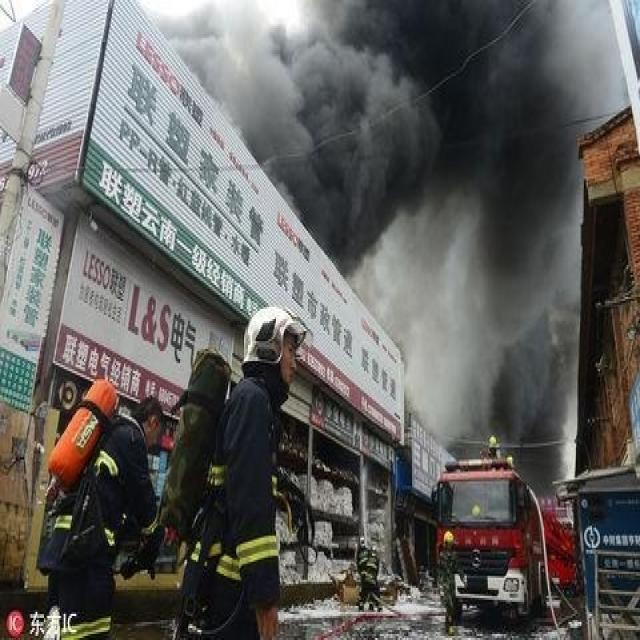Smoke: (150, 2, 626, 496)
